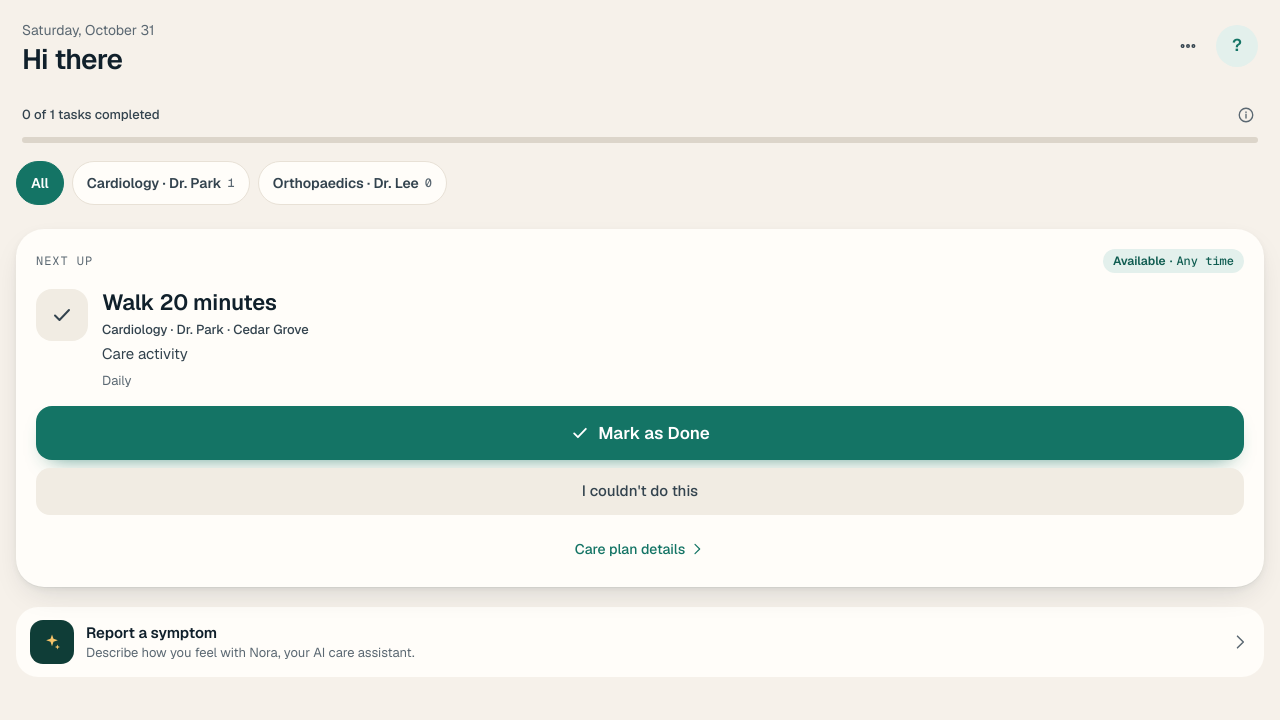
Today with several care teams › explains an empty filter and can show everything again
Click the button "Orthopaedics · Dr. Lee 0": coordinates (352, 183) [258,161,447,205]
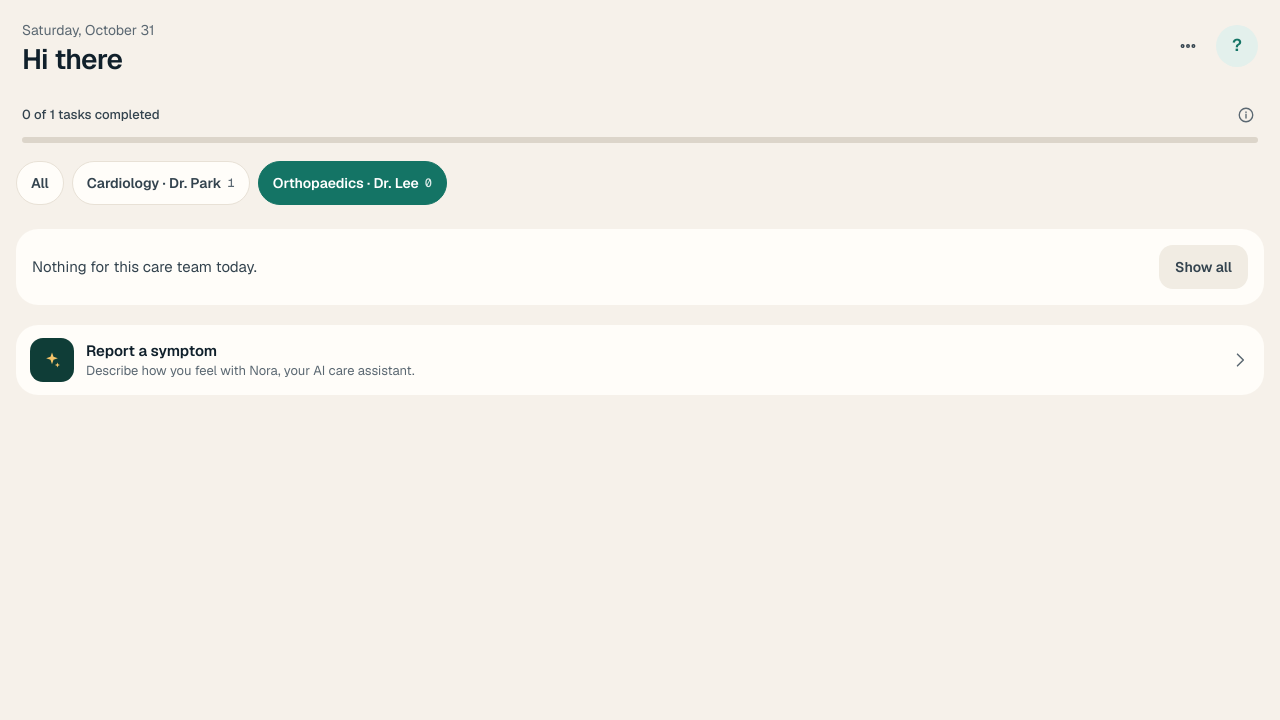
Expected: the text "Nothing for this care team today." is shown, [32,257,257,276]
Click the button "Show all": coordinates (1204, 267) [1159,245,1248,289]
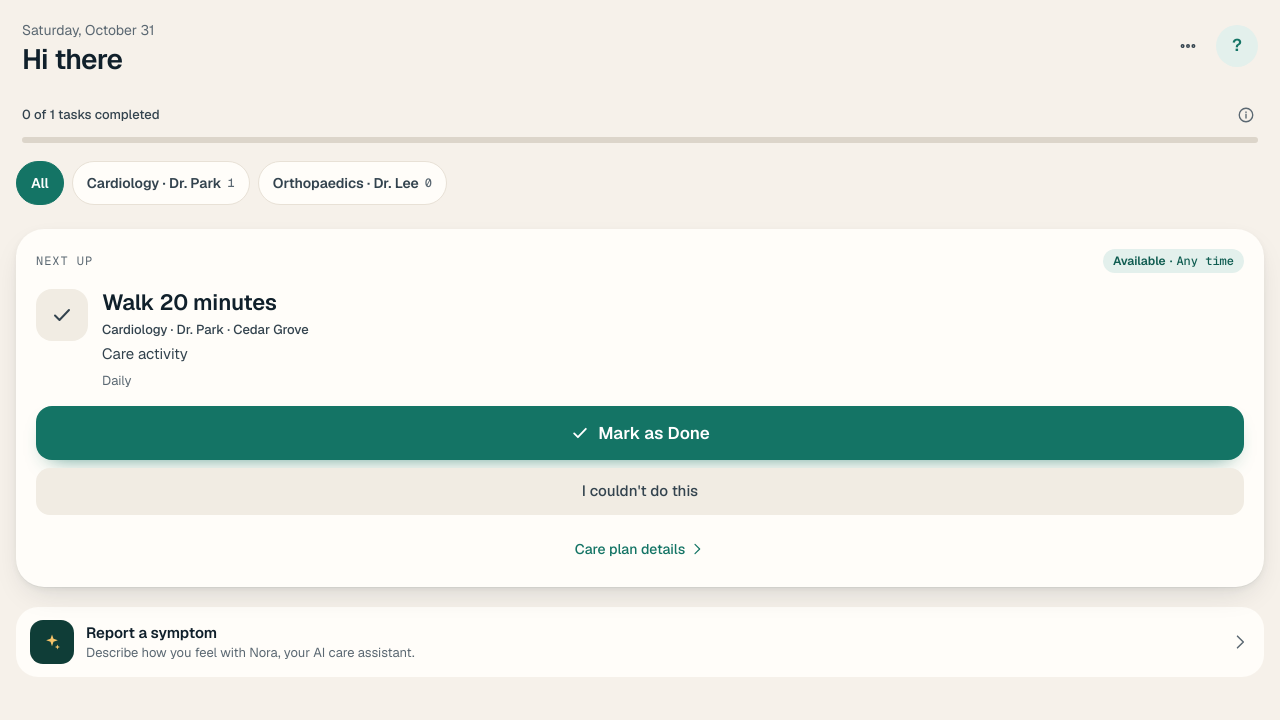
Expected: the heading "Walk 20 minutes" is shown, [102,288,277,316]
